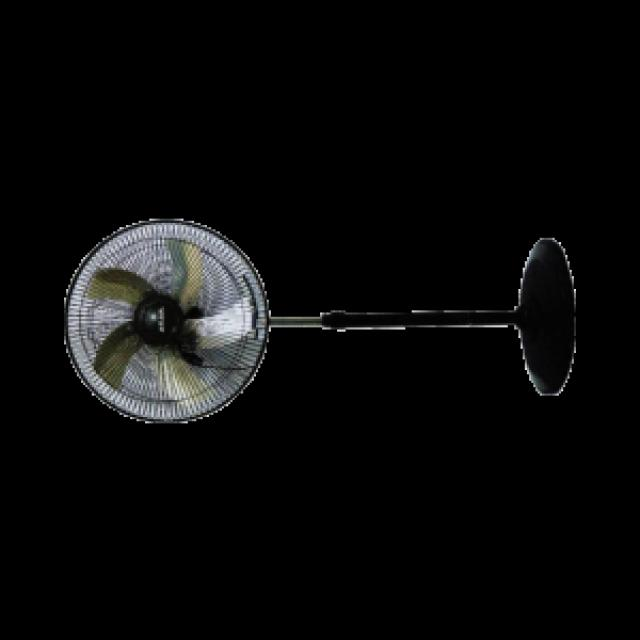fan: (61, 220, 574, 427)
